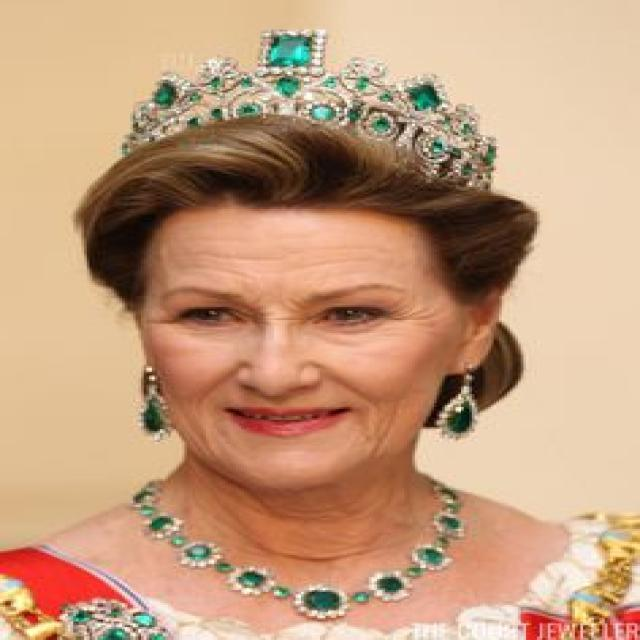Earring: (435, 359, 483, 456), (134, 357, 174, 450)
